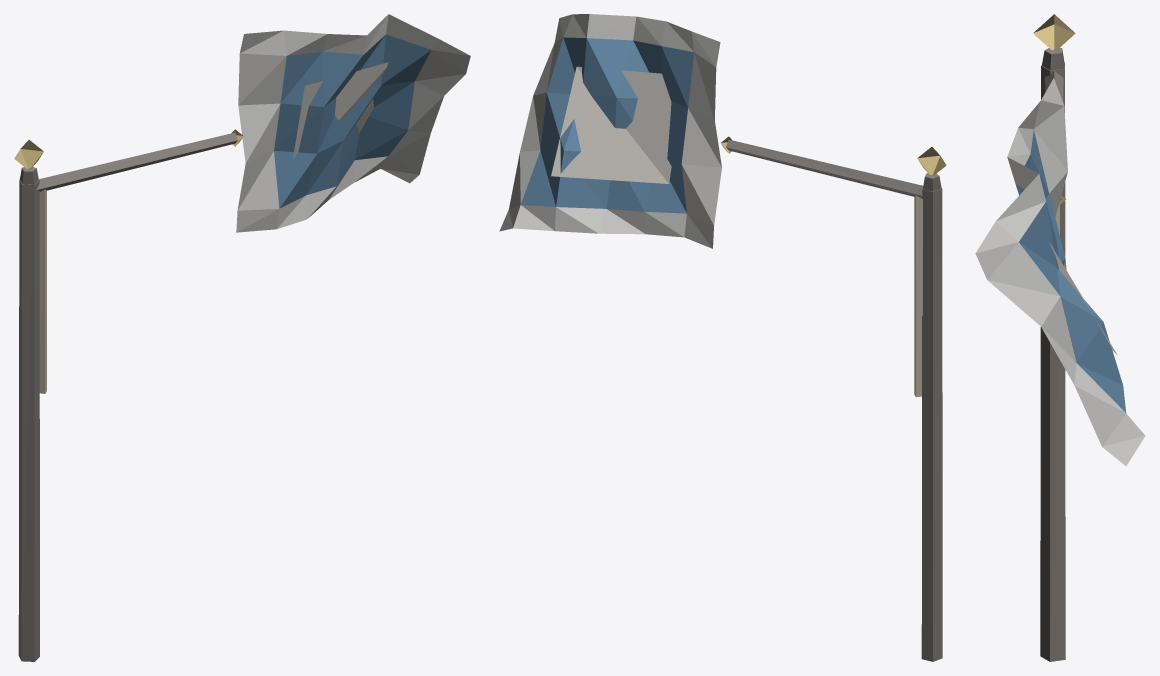
File: flag.square.qingqi__pole.stick.fangun__armFly.glb
3 renders of one model, left to right at view 1: azimuth 30°, elevation 25°; view 2: azimuth 150°, elevation 25°; view 3: azimuth 270°, elevation 25°, orthographic. The views are drawn at different scales.
Visible parts, largest first — view 1: flag.square.qingqi; view 2: flag.square.qingqi; view 3: flag.square.qingqi.
Part boxes in pixels (x1=…): flag.square.qingqi: x1=14, y1=14, x2=470, y2=661; flag.square.qingqi: x1=499, y1=14, x2=946, y2=661; flag.square.qingqi: x1=975, y1=14, x2=1145, y2=661.
Size of the model in its own units: 1.96 by 2.52 by 0.5482.
